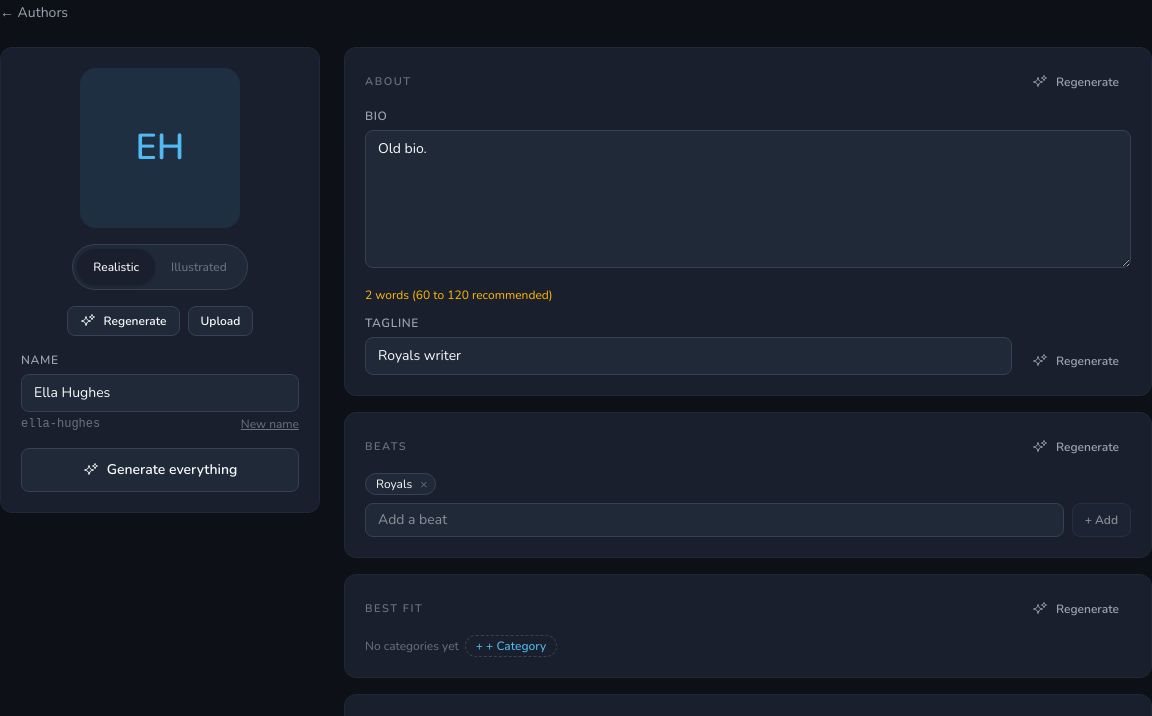
Test: AuthorProfileEditor › Generate everything applies each part as it lands, can't start twice, and keeps edits made during the run
Click the button "Generate everything".
click(160, 470)  # box top-left (21, 448), bottom-right (299, 492)
(page scrolled)
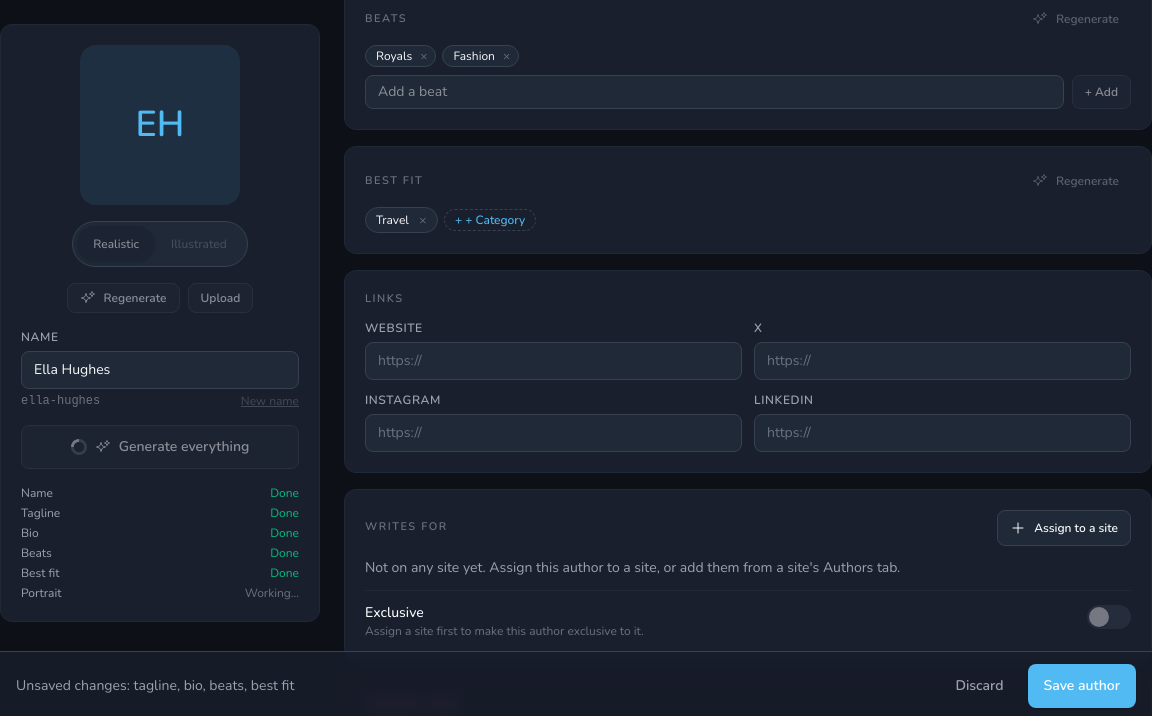
Now the button "Generate everything" is disabled, box top-left (21, 425), bottom-right (299, 469)
Type "https://ella.example" into the field labelled "Website".
click(554, 360); type("https://ella.example")  # box top-left (365, 342), bottom-right (742, 380)
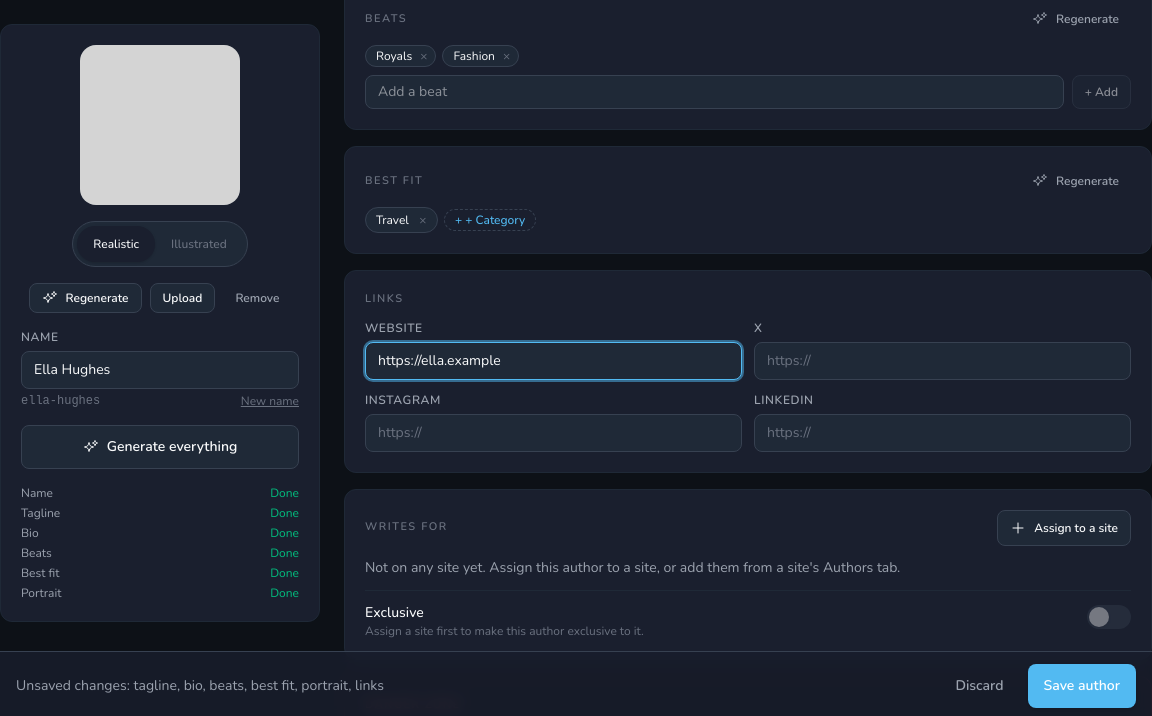
Now the text "Done" is shown 6 times, box top-left (270, 485), bottom-right (299, 501); top-left (270, 505), bottom-right (299, 521); top-left (270, 525), bottom-right (299, 541); top-left (270, 545), bottom-right (299, 561); top-left (270, 565), bottom-right (299, 581); top-left (270, 585), bottom-right (299, 601)
Now the button "Generate everything" is enabled, box top-left (21, 425), bottom-right (299, 469)
